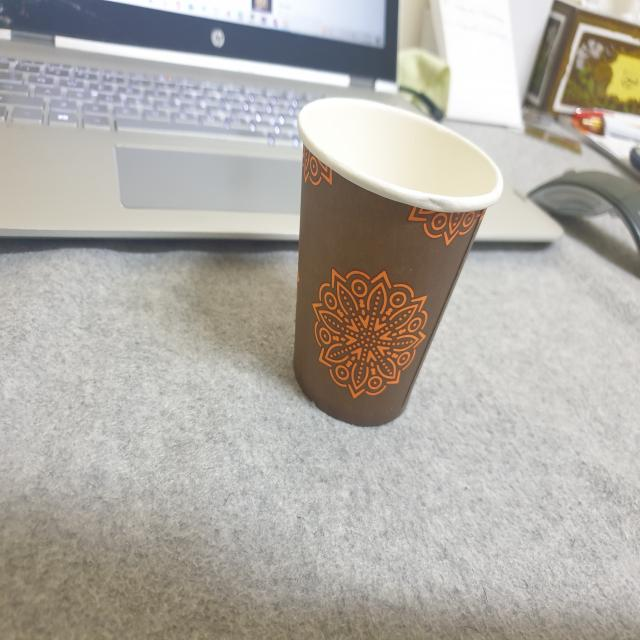cups: (268, 90, 510, 434)
